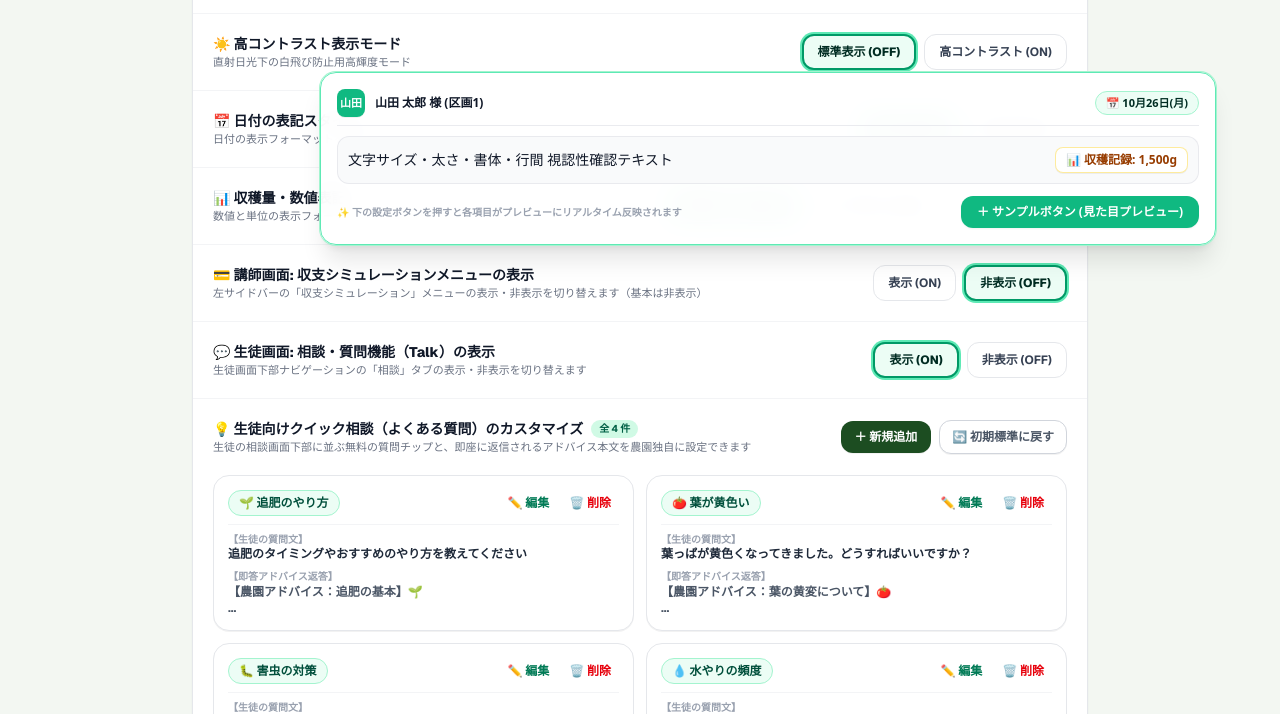
TeacherSettingsView - 表示中の農園の設定を読み書きする › 保存に失敗したらエラーのトーストを表示する
The image size is (1280, 714).
(page scrolled)
Click the button "非表示 (OFF)" in the row of "生徒画面下部ナビゲーションの「相談」タブの表示・非表示を切り替えます" at (1017, 360), box [967,342,1067,378]
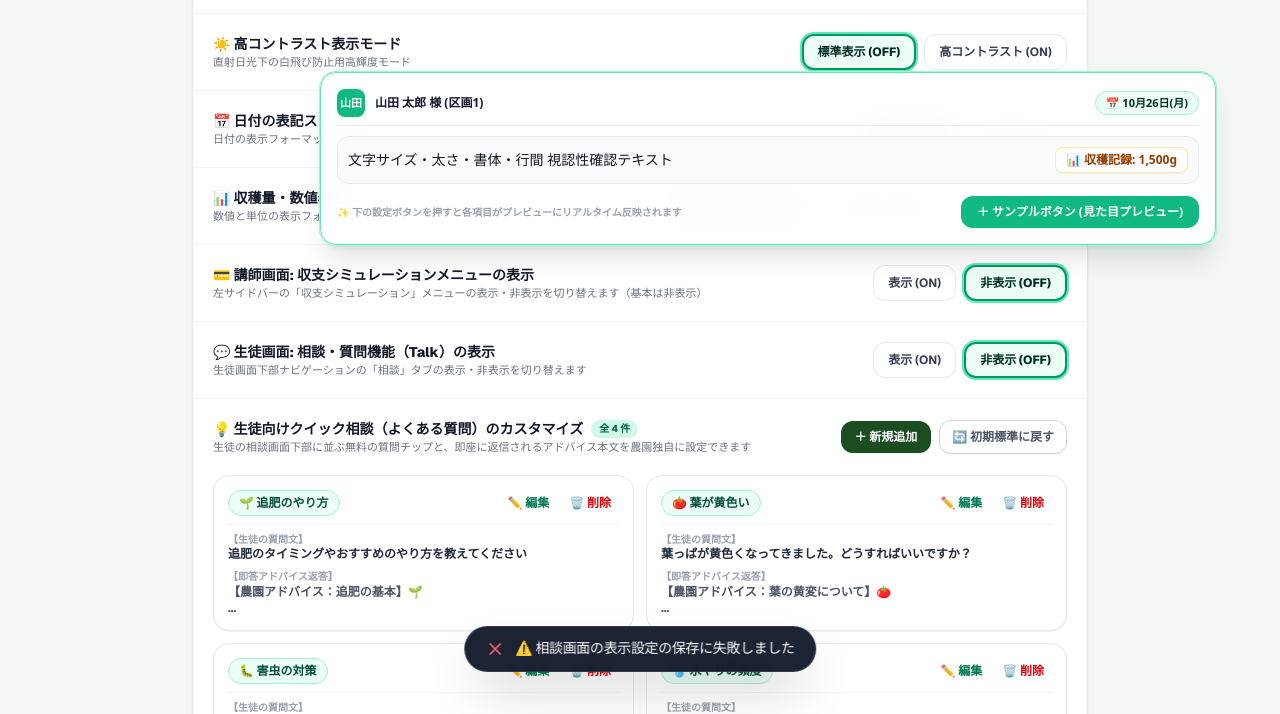
Now the text "⚠️ 相談画面の表示設定の保存に失敗しました" is shown, box [515,639,795,659]
